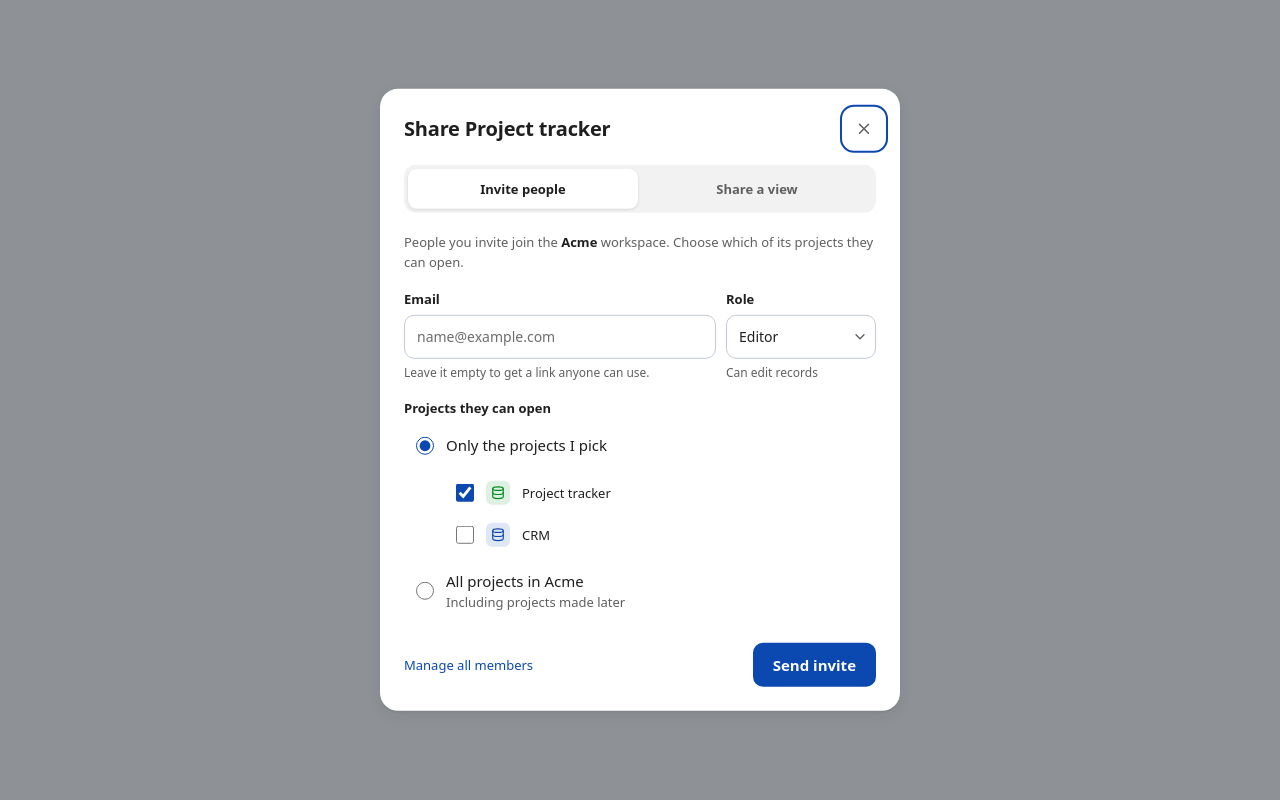
Test: Share dialog: invite people › lets an owner invite to every base, including later ones, and make owners
This screenshot has width=1280, height=800.
Click the radio button labelled "All projects in Acme". click: click(425, 591)
box: x1=416 y1=582 x2=434 y2=600
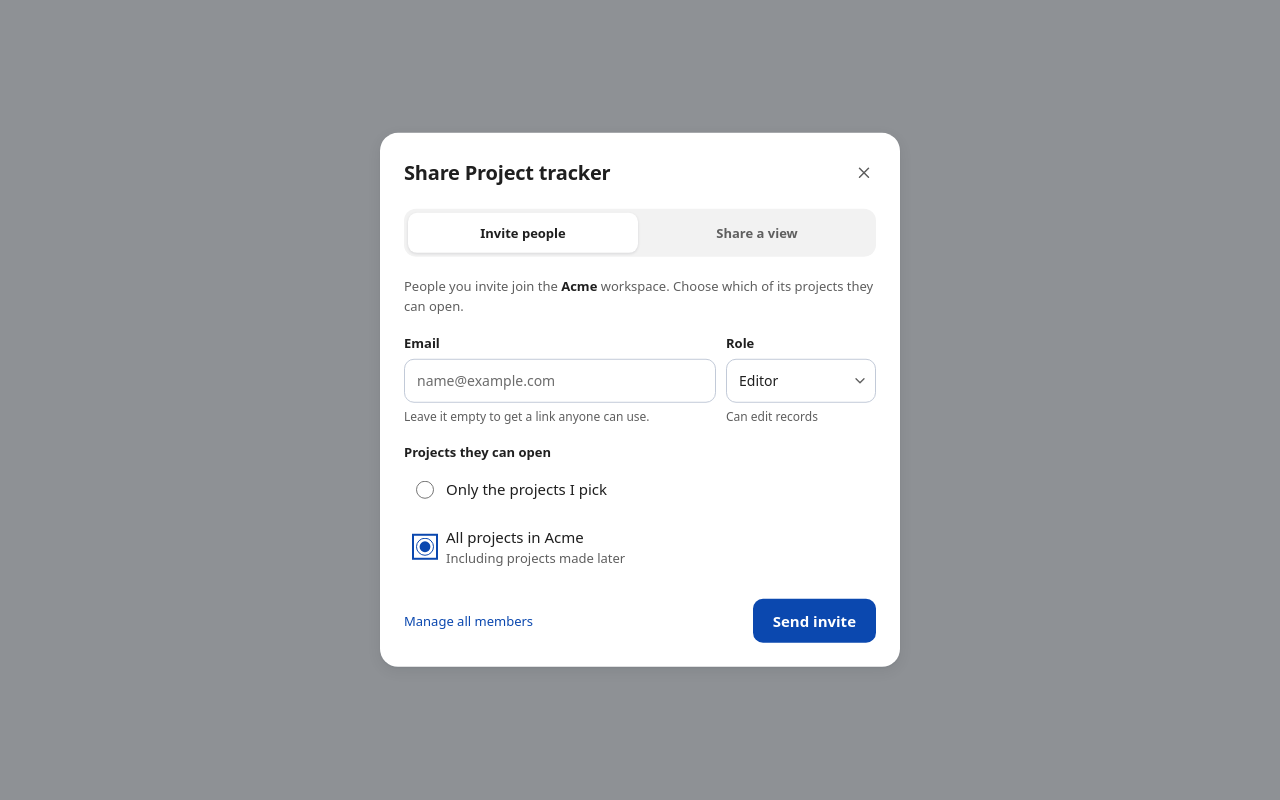
Now the text "CRM" is gone
Click the button "Send invite". click: click(814, 621)
box: x1=753 y1=599 x2=876 y2=643
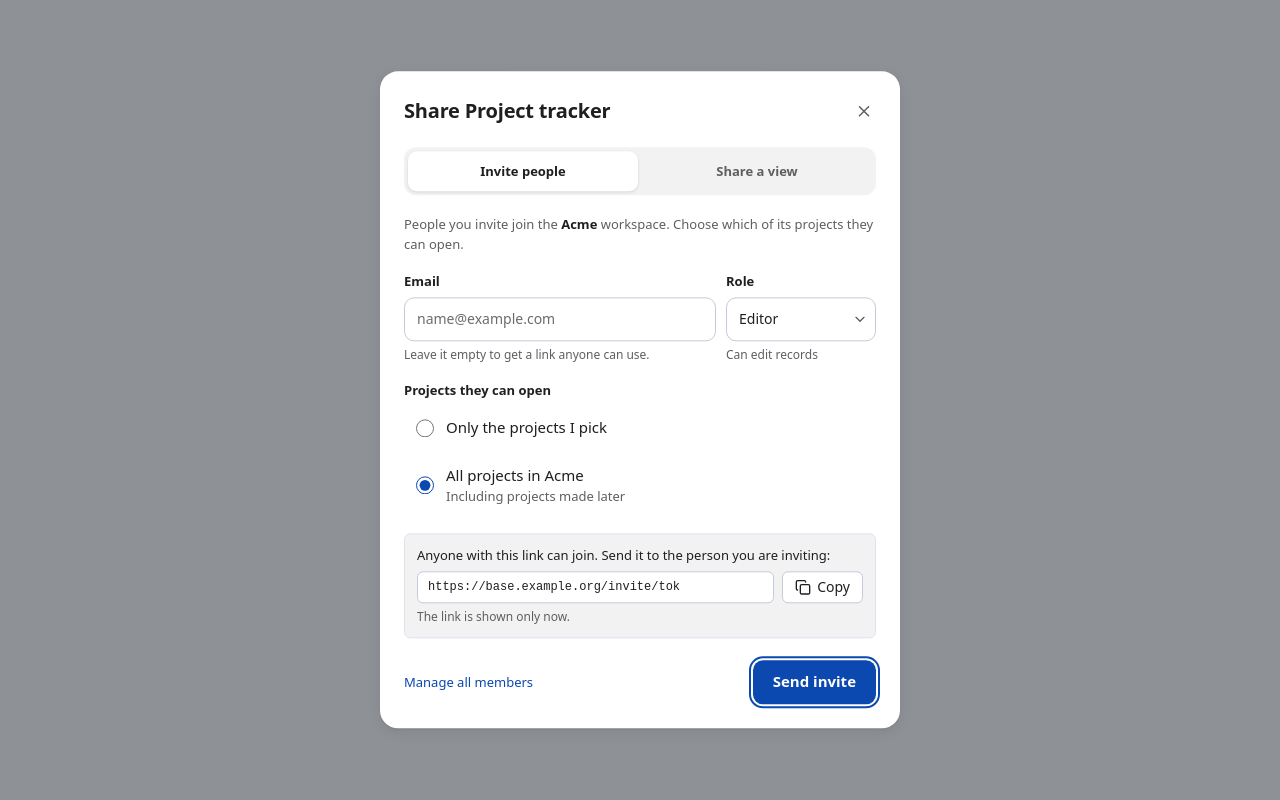
Select "Owner" in the dropdown labelled "Role". click: (801, 319)
box: x1=726 y1=297 x2=876 y2=341
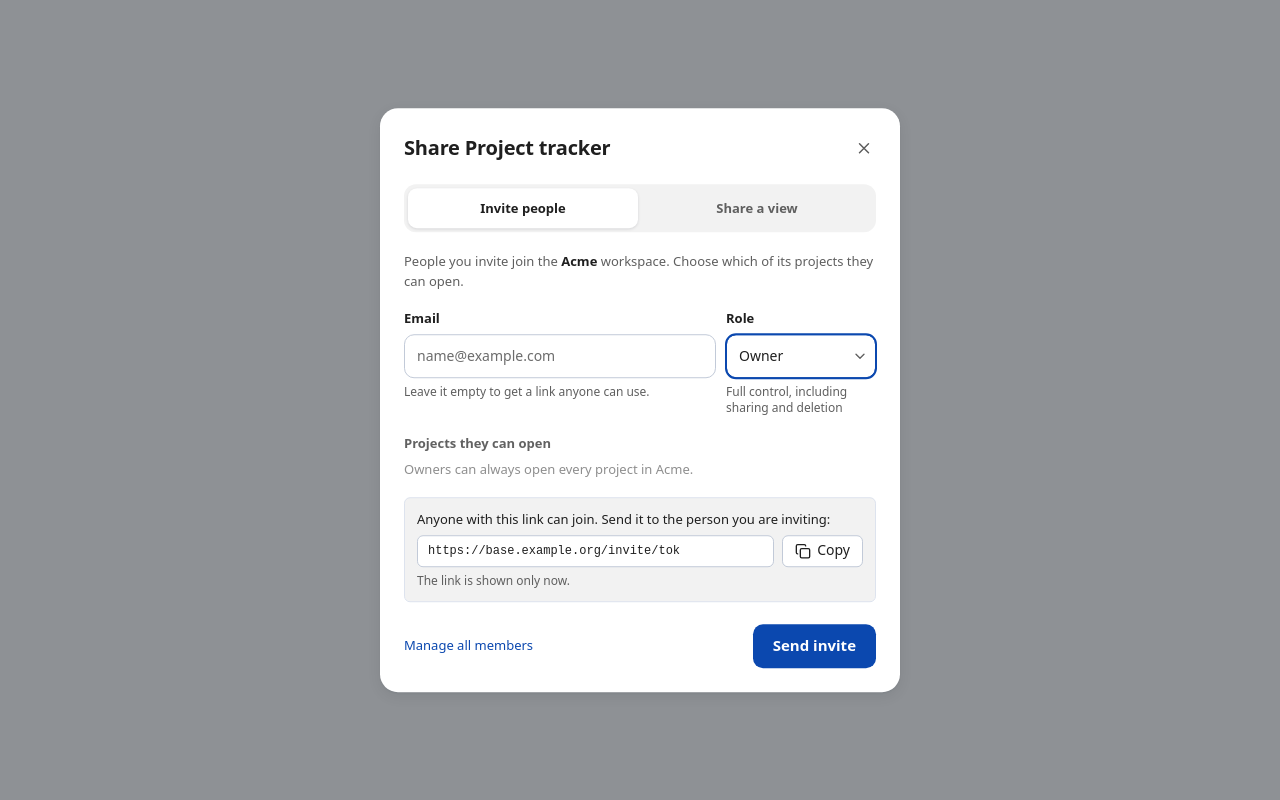
Now the text "Owners can always open every project in Acme." is shown, box x1=404 y1=460 x2=693 y2=478
